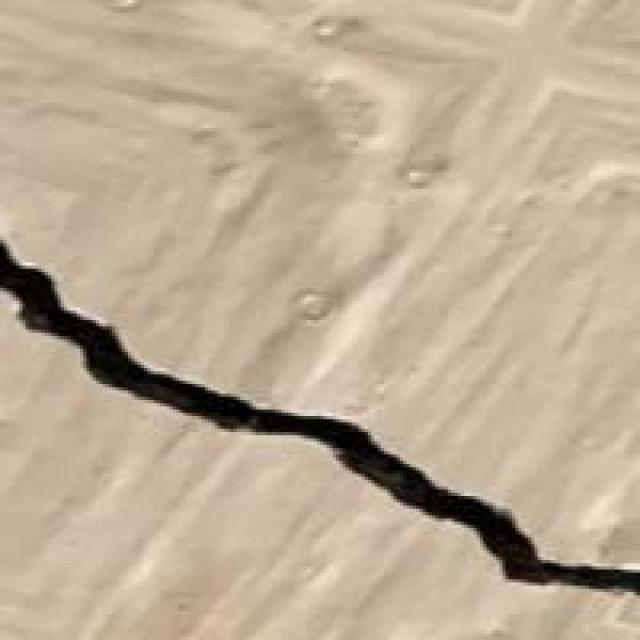crack: (0, 211, 637, 624)
